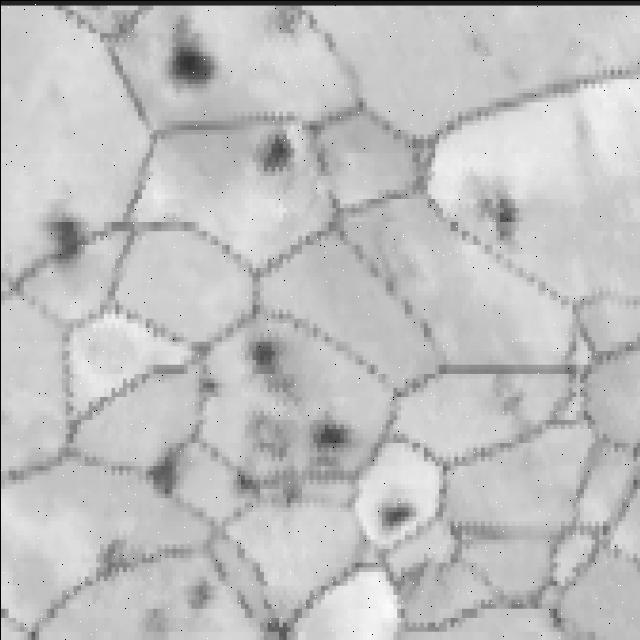good_void: (240, 329, 301, 408), (244, 407, 293, 461), (168, 43, 221, 83), (249, 135, 296, 179), (483, 376, 531, 417), (266, 2, 310, 44), (40, 219, 88, 256), (314, 415, 352, 450), (489, 193, 515, 244), (275, 466, 302, 505), (152, 449, 174, 492), (381, 503, 416, 527), (233, 457, 257, 491), (198, 371, 220, 396), (96, 542, 117, 565), (193, 584, 209, 602)
